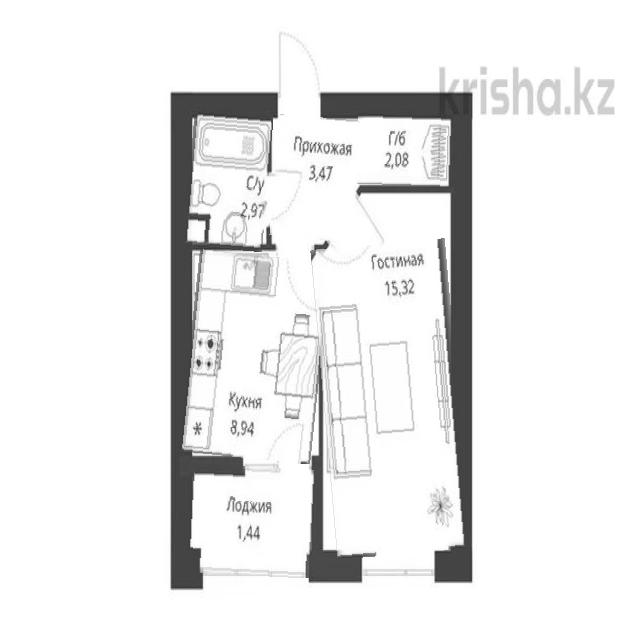balcony: (186, 465, 316, 576)
bathroom: (186, 107, 271, 251)
hallway: (272, 116, 358, 241)
kitchen: (184, 252, 326, 461)
living_room: (316, 241, 465, 556)
other: (357, 113, 466, 187)
